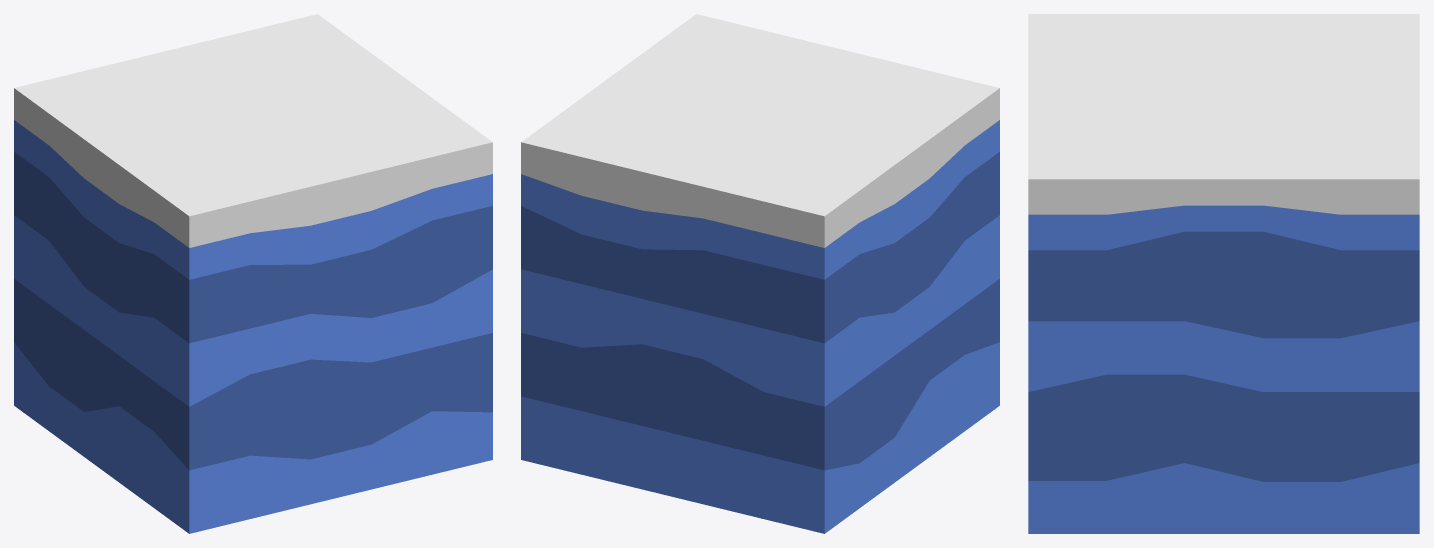
The model's file is Stone010.fbx.
3 views of the same model, side by side, from view 1: azimuth 30°, elevation 25°; view 2: azimuth 150°, elevation 25°; view 3: azimuth 270°, elevation 25° (orthographic). The views are drawn at different scales.
Parts seen in each view (by area): view 1: Stone010; view 2: Stone010; view 3: Stone010.
Part boxes in pixels (bbox=[...]): Stone010: bbox=[14, 14, 492, 533]; Stone010: bbox=[521, 14, 999, 533]; Stone010: bbox=[1028, 14, 1419, 533].
Size of the model in its own units: 156 by 156 by 156.
